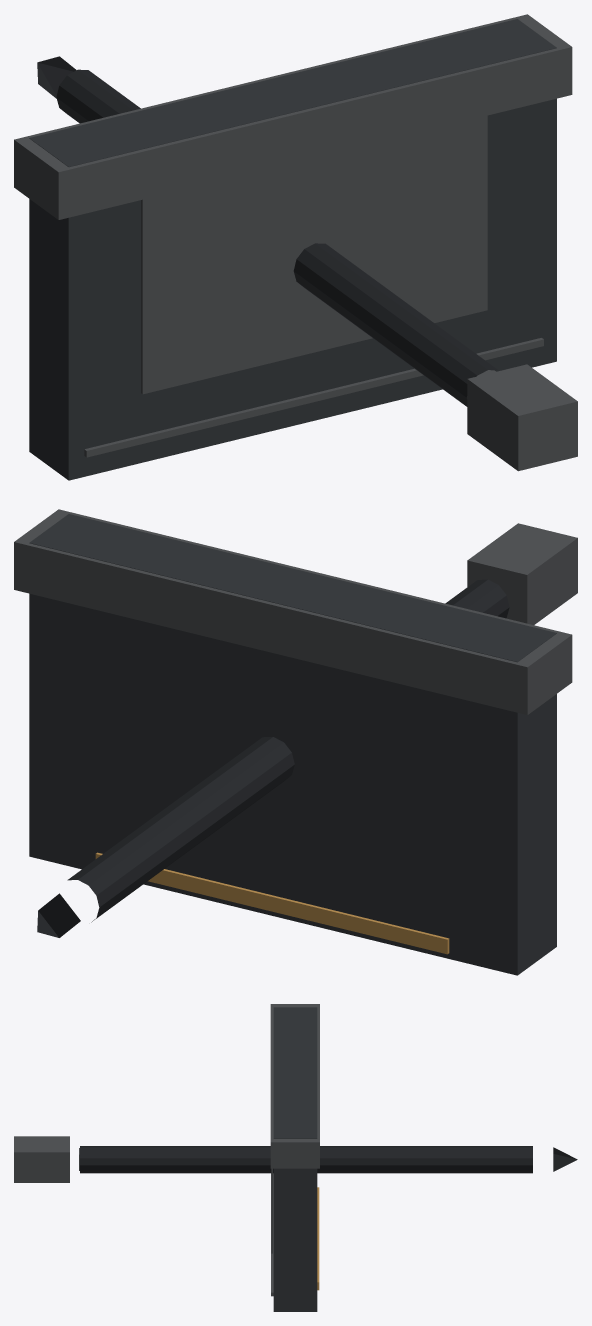
The model's file is ds-lite-accessories.glb.
3 views of the same model, one above another, from view 1: azimuth 30°, elevation 25°; view 2: azimuth 150°, elevation 25°; view 3: azimuth 270°, elevation 25° (orthographic). The views are drawn at different scales.
Parts seen in each view (by area): view 1: gba_shell_front, gba_label_panel, gba_grip_lip, stylus_shaft_mesh, stylus_cap, nds_shell_front, gba_shell_seam, stylus_tip_mesh; view 2: gba_shell_front, gba_grip_lip, stylus_shaft_mesh, stylus_cap, gba_contact_mouth, nds_shell_front, stylus_tip_mesh; view 3: gba_shell_front, stylus_shaft_mesh, stylus_cap, gba_grip_lip, nds_shell_front.
Part boxes in pixels (x1,y1,x2,y2): gba_shell_front: (29, 19, 556, 480); gba_label_panel: (141, 115, 487, 394); gba_grip_lip: (14, 14, 572, 219); stylus_shaft_mesh: (56, 69, 498, 406); stylus_cap: (467, 364, 577, 471); nds_shell_front: (142, 51, 437, 133); gba_shell_seam: (84, 338, 543, 457); stylus_tip_mesh: (37, 56, 76, 98); gba_shell_front: (29, 514, 556, 975); gba_grip_lip: (14, 509, 572, 714); stylus_shaft_mesh: (67, 579, 509, 922); stylus_cap: (467, 523, 577, 624); gba_contact_mouth: (95, 852, 449, 954); nds_shell_front: (150, 546, 443, 628); stylus_tip_mesh: (37, 893, 80, 937); gba_shell_front: (273, 1007, 317, 1311); stylus_shaft_mesh: (80, 1146, 532, 1173); stylus_cap: (14, 1136, 69, 1182); gba_grip_lip: (270, 1004, 319, 1168); nds_shell_front: (285, 1035, 305, 1110).
Size of the model in its own units: 1.46 by 0.852 by 2.51.
